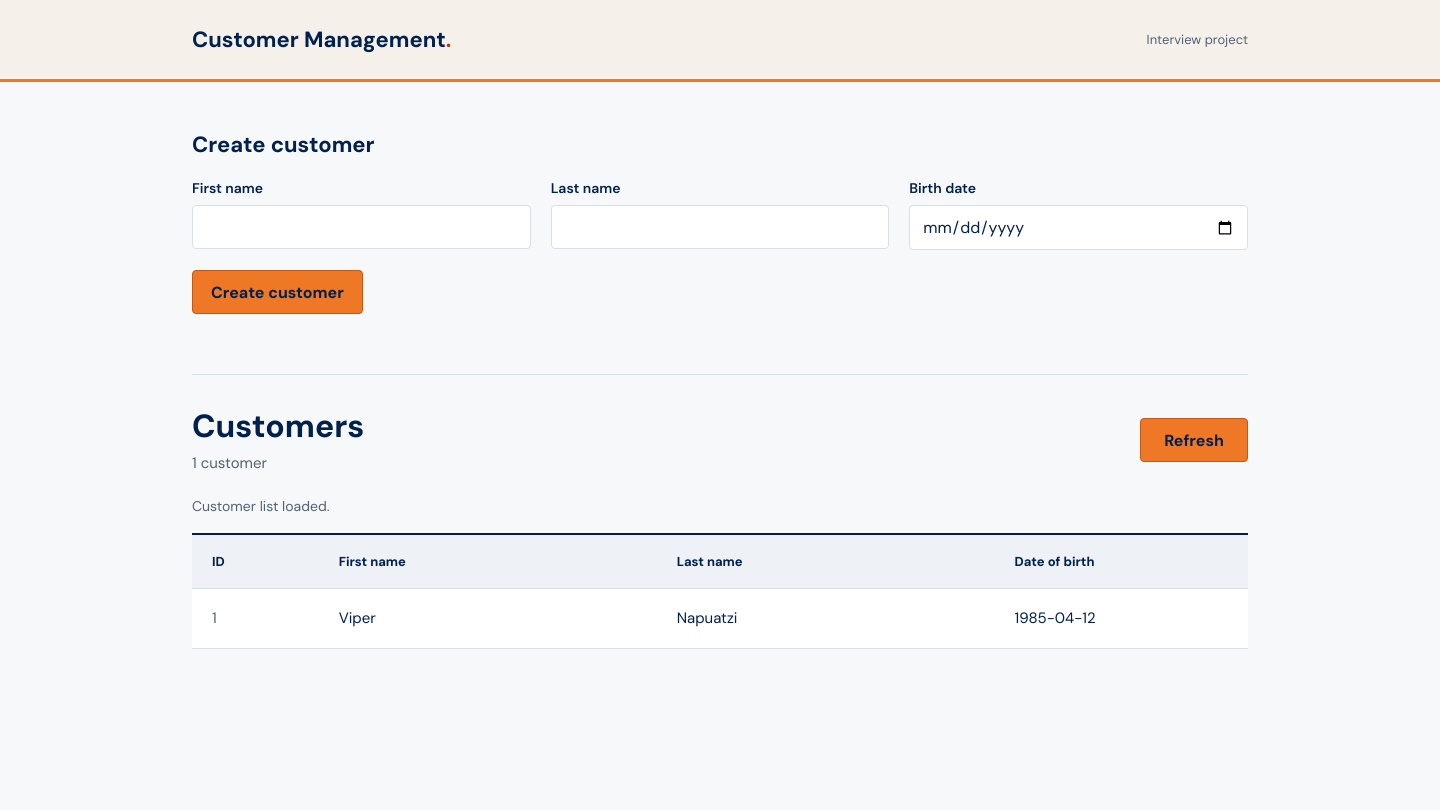
Test: customer creation › submits a date-only payload, clears after success, and shows the refreshed customer first
Expected: the text "Viper" is shown, [319,589,657,648]
In the field labelled "First name": (361, 227) [192,205,531,249], type "Ada"
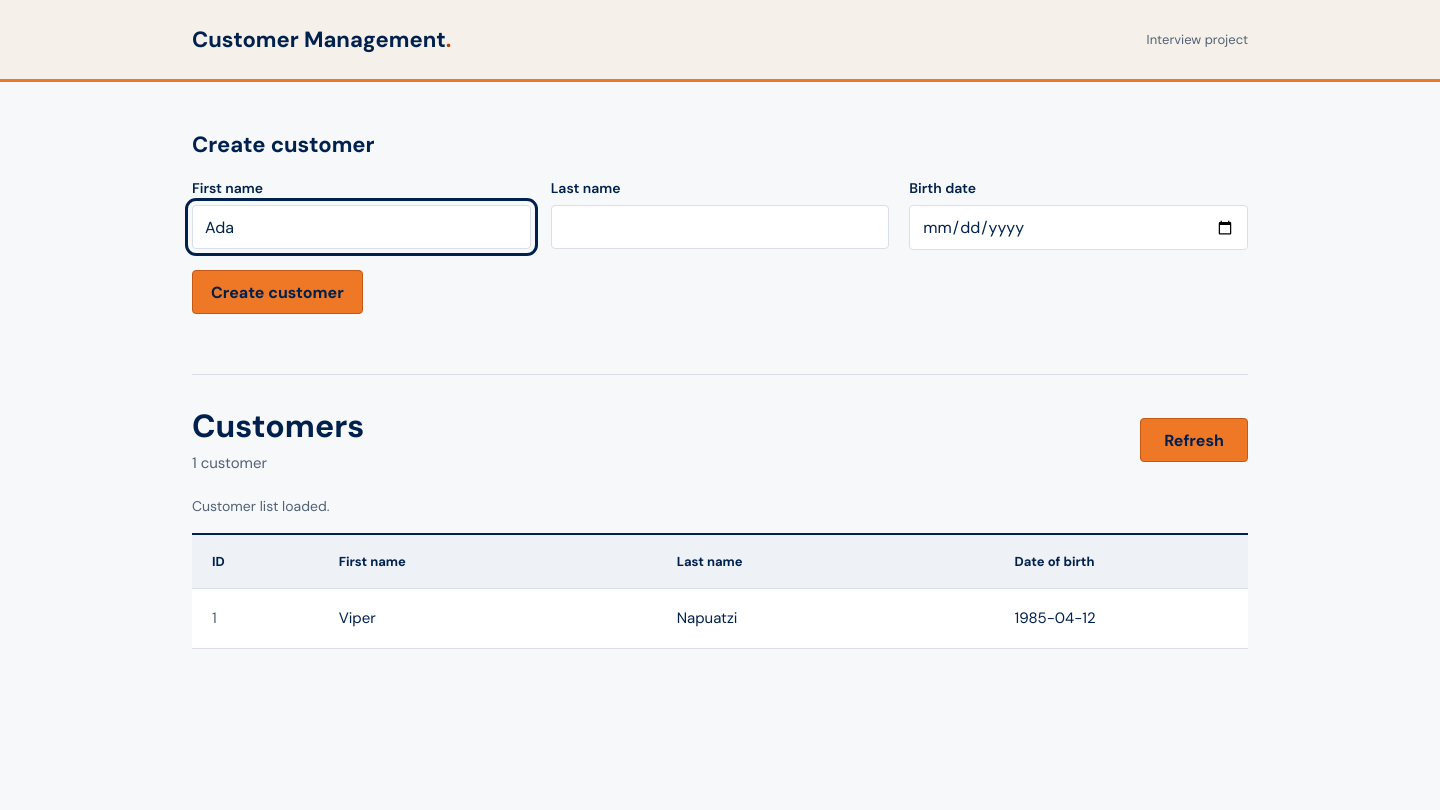
In the field labelled "Last name": (720, 227) [551,205,889,249], type "Lovelace"
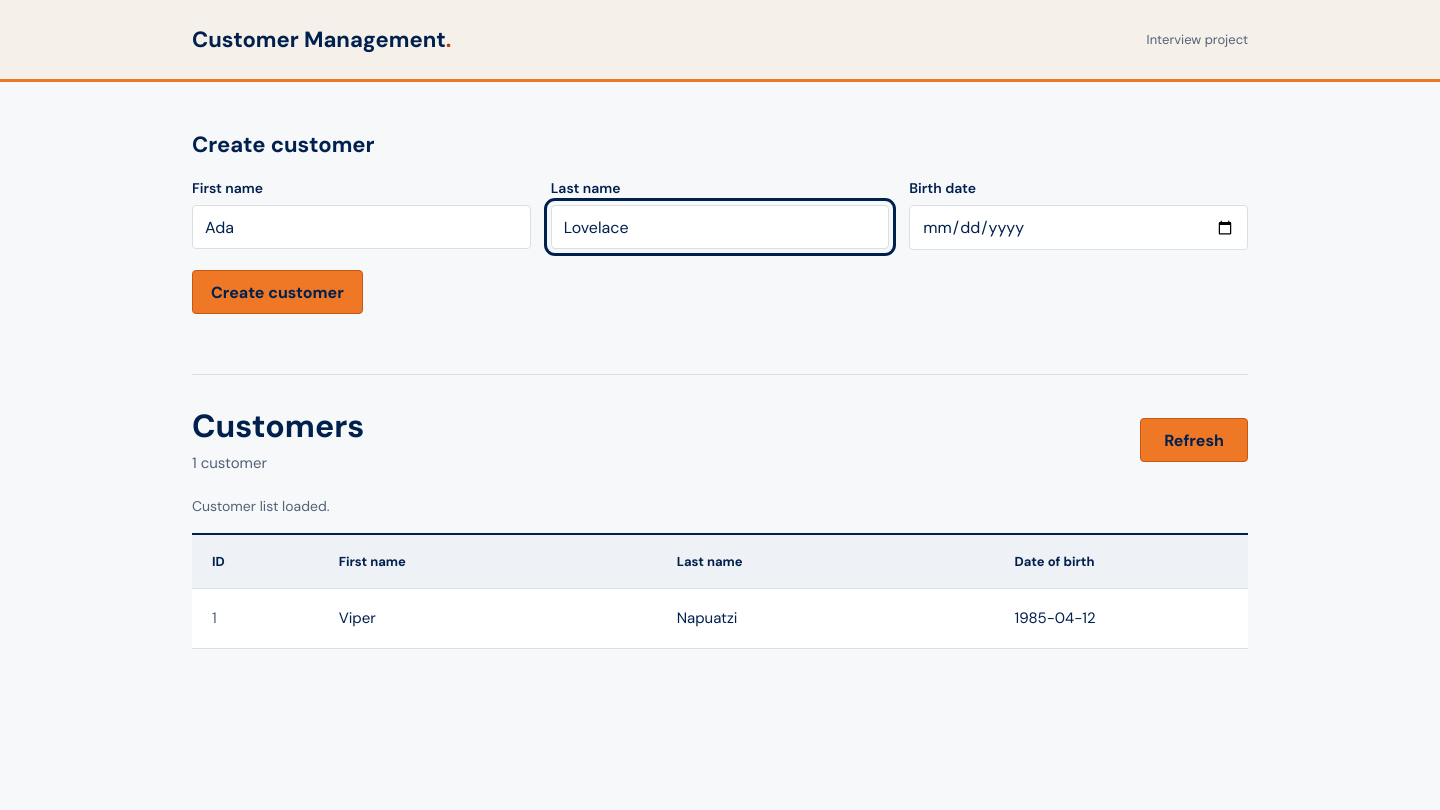
In the date field labelled "Birth date": (1079, 228) [909,205,1248,250], type "1990-12-10"
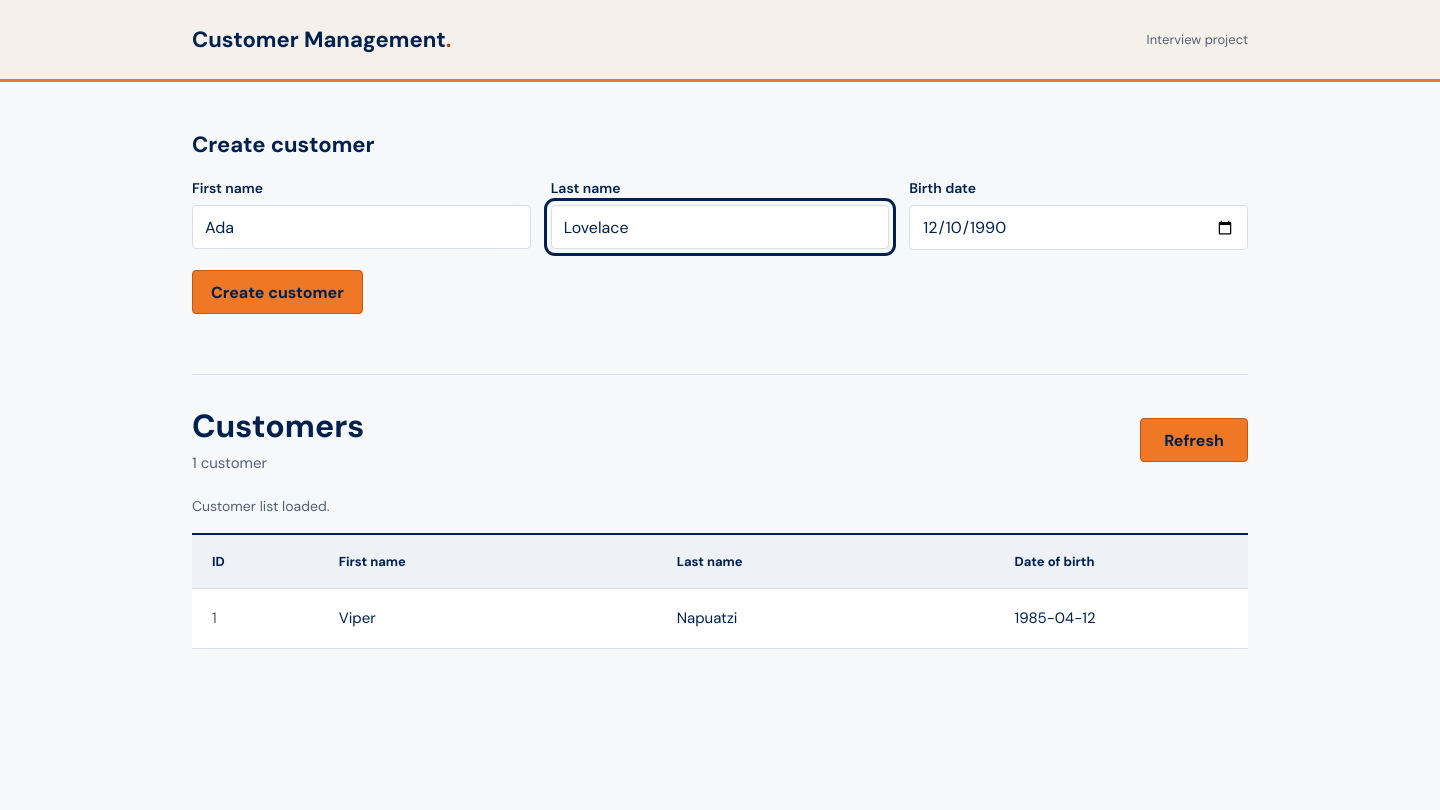
Click the button "Create customer": (277, 292) [192,270,363,314]
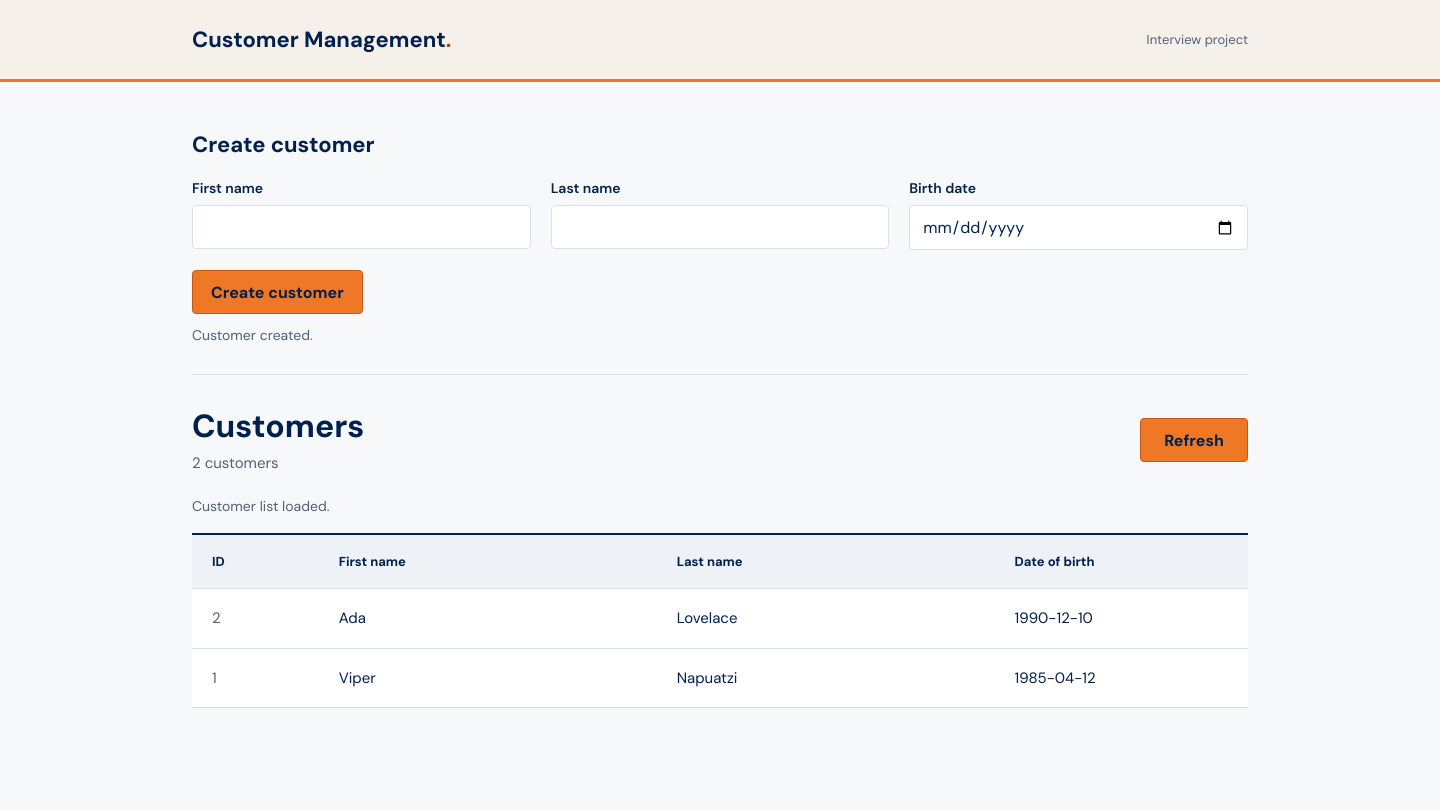
Result: the text "Ada" is shown at [319,589,657,648]
Result: the field labelled "First name" is empty at [192,205,531,249]
Result: the field labelled "Last name" is empty at [551,205,889,249]
